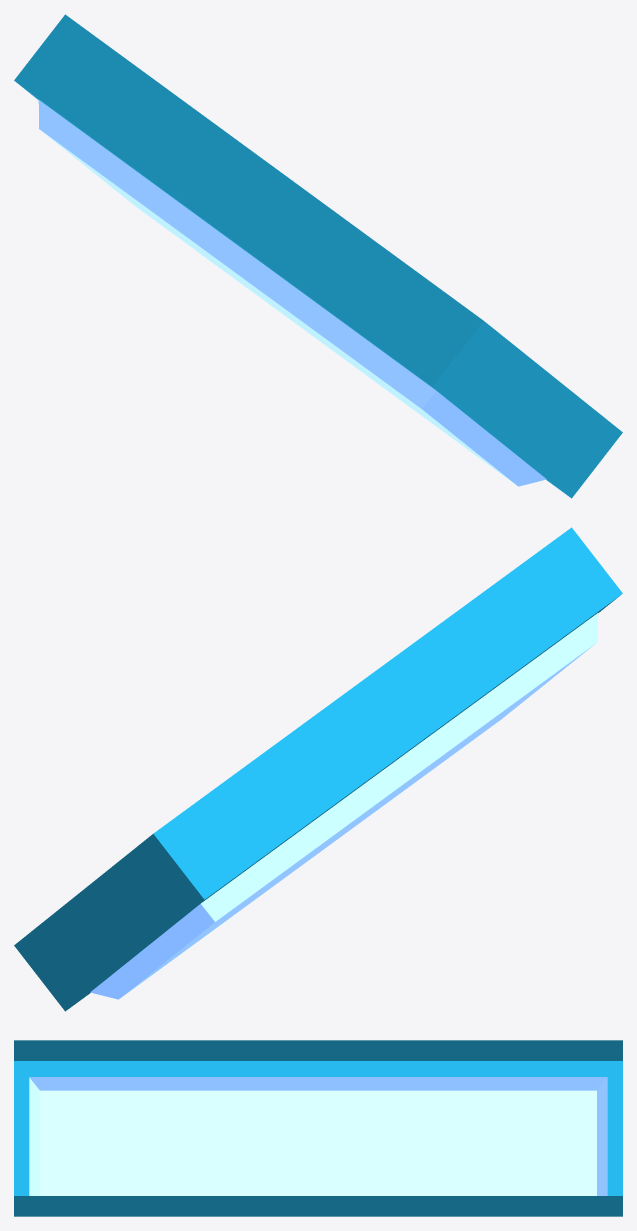
File: light.fbx
3 views of the same model, one above another, from view 1: azimuth 30°, elevation 25°; view 2: azimuth 150°, elevation 25°; view 3: azimuth 270°, elevation 25° (orthographic). The views are drawn at different scales.
Parts seen in each view (by area): view 1: light; view 2: light; view 3: light.
Part boxes in pixels (<box>): light: <box>14,14,622,498</box>; light: <box>14,527,622,1011</box>; light: <box>14,1040,622,1216</box>.
Size of the model in its own units: 39.44 by 39.44 by 150.
